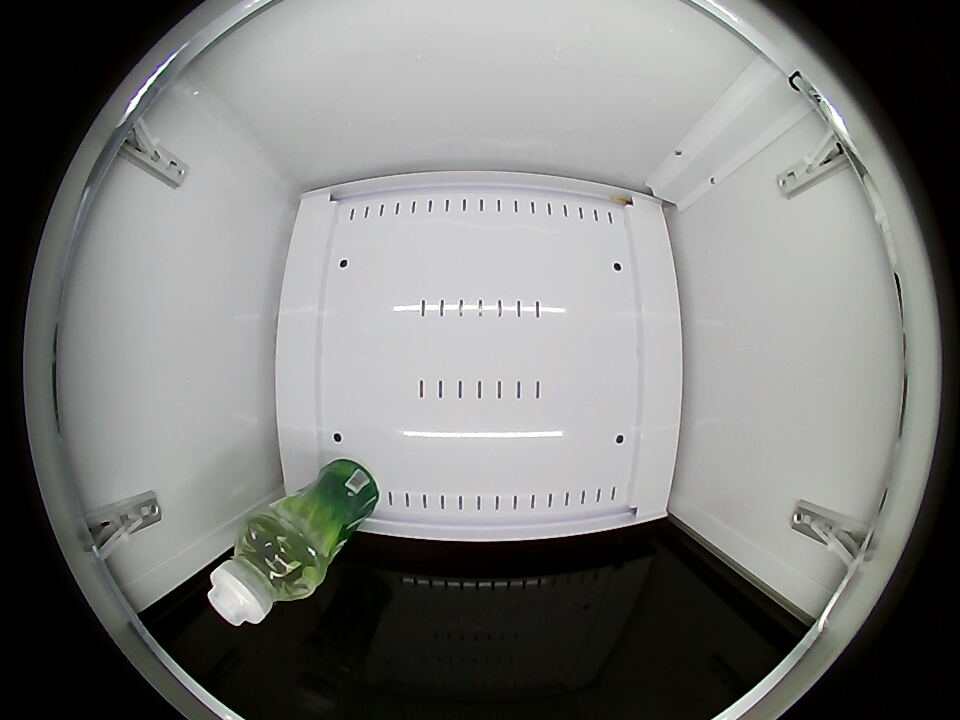jianjiao: (207, 517, 320, 626)
